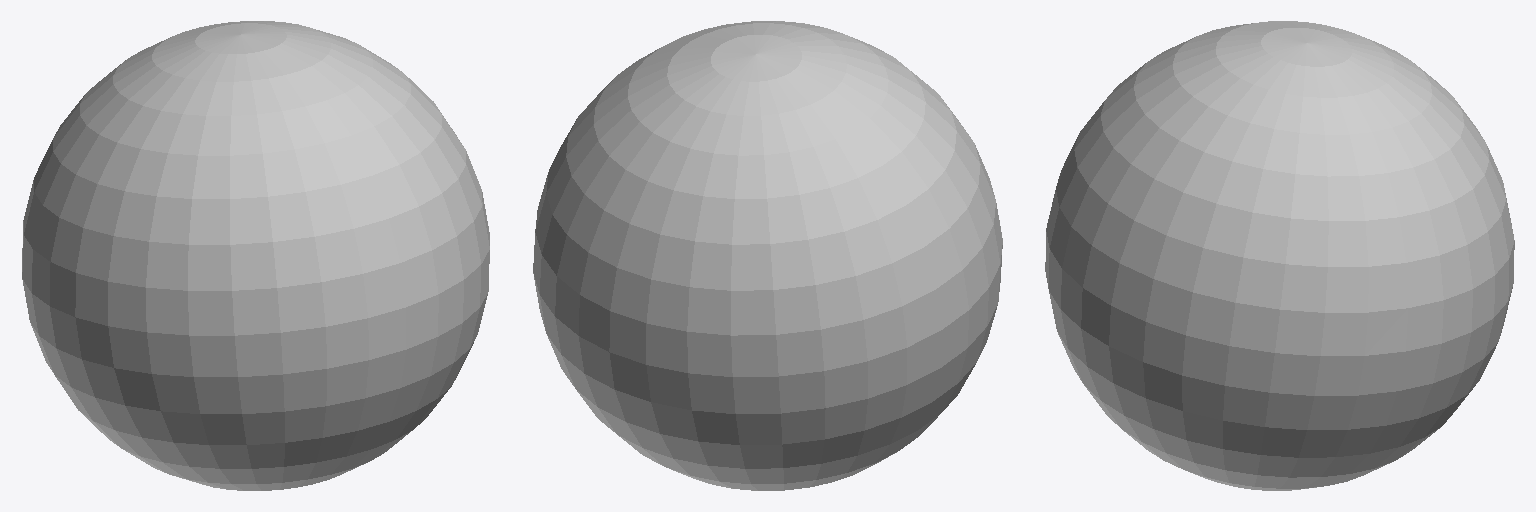
File: moth_wingjoint_l1.obj
The picture shows the model from 3 angles: view 1: azimuth 30°, elevation 25°; view 2: azimuth 150°, elevation 25°; view 3: azimuth 270°, elevation 25°; orthographic projection.
Parts seen in each view (by area): view 1: wingJointleft_Sphere.005; view 2: wingJointleft_Sphere.005; view 3: wingJointleft_Sphere.005.
Boxes of the visible parts, box(x1,y1,x2,y2) form: wingJointleft_Sphere.005: box(22, 21, 489, 490); wingJointleft_Sphere.005: box(533, 21, 1002, 490); wingJointleft_Sphere.005: box(1045, 21, 1514, 490).
Bounding box in the file's own units: 0.1 × 0.0997 × 0.0996.